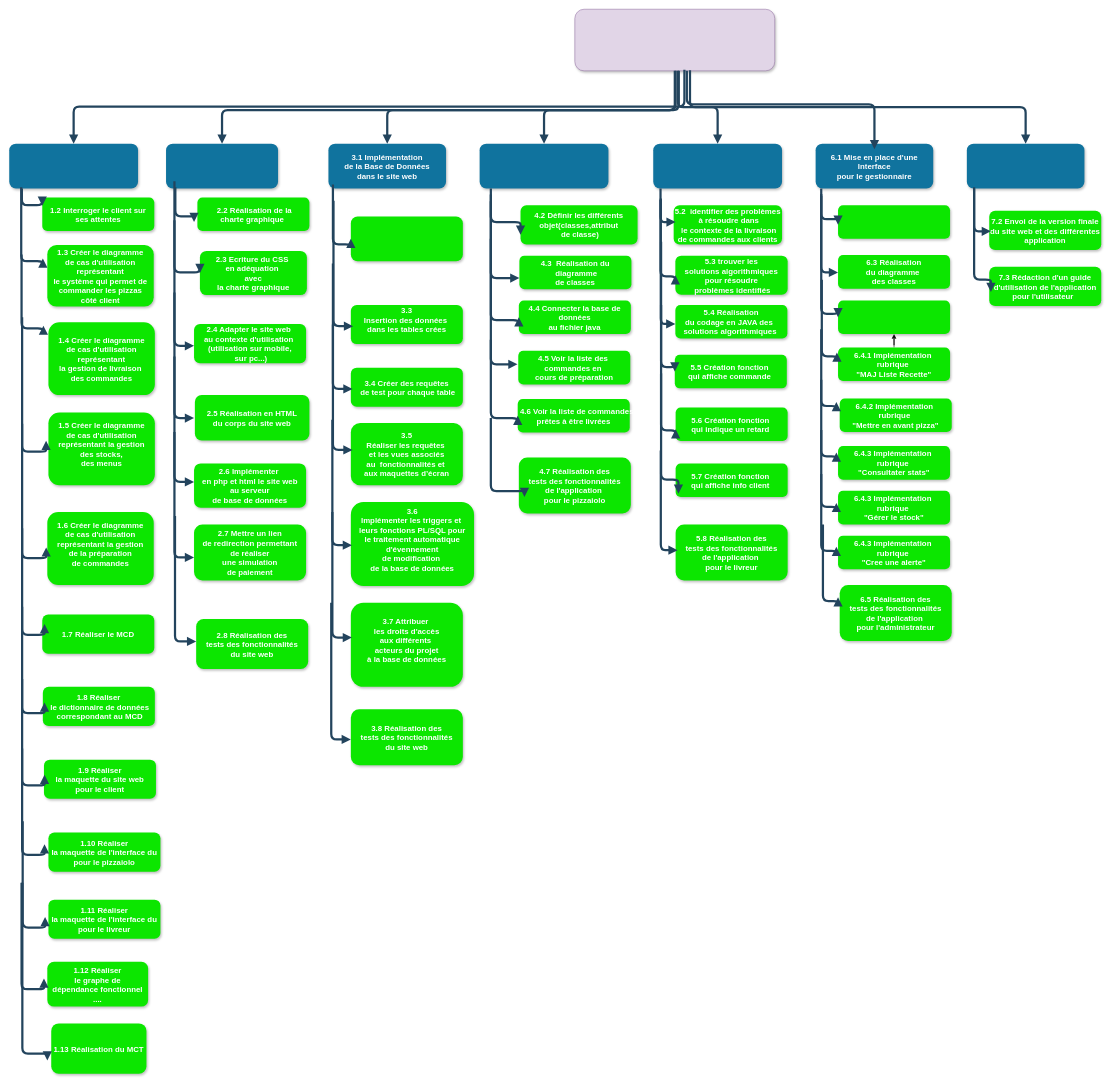
This 1110x1083 diagram has some shape labels left out. Each missing label, with the centre of its shape:
1.1 Initialisation du Projet: the point at 74,166
2.1 Création d'un site web pour le client: the point at 222,166
3.2 Ecriture du script de création des tables: the point at 407,239
4.1 Mise en place d'une application pour le Pizzaiolo: the point at 544,166
5.1 Mise en place d'une application pour le livreur: the point at 718,166
6.2 Définir les différents objet(classes,attribut de classe): the point at 894,222
6.4 Connecter la base de données au fichier java: the point at 894,318
7.1 Mise en place du système: the point at 1026,166
SYSTEME DE GESTION D'UNE PIZZERIA: the point at 675,40
